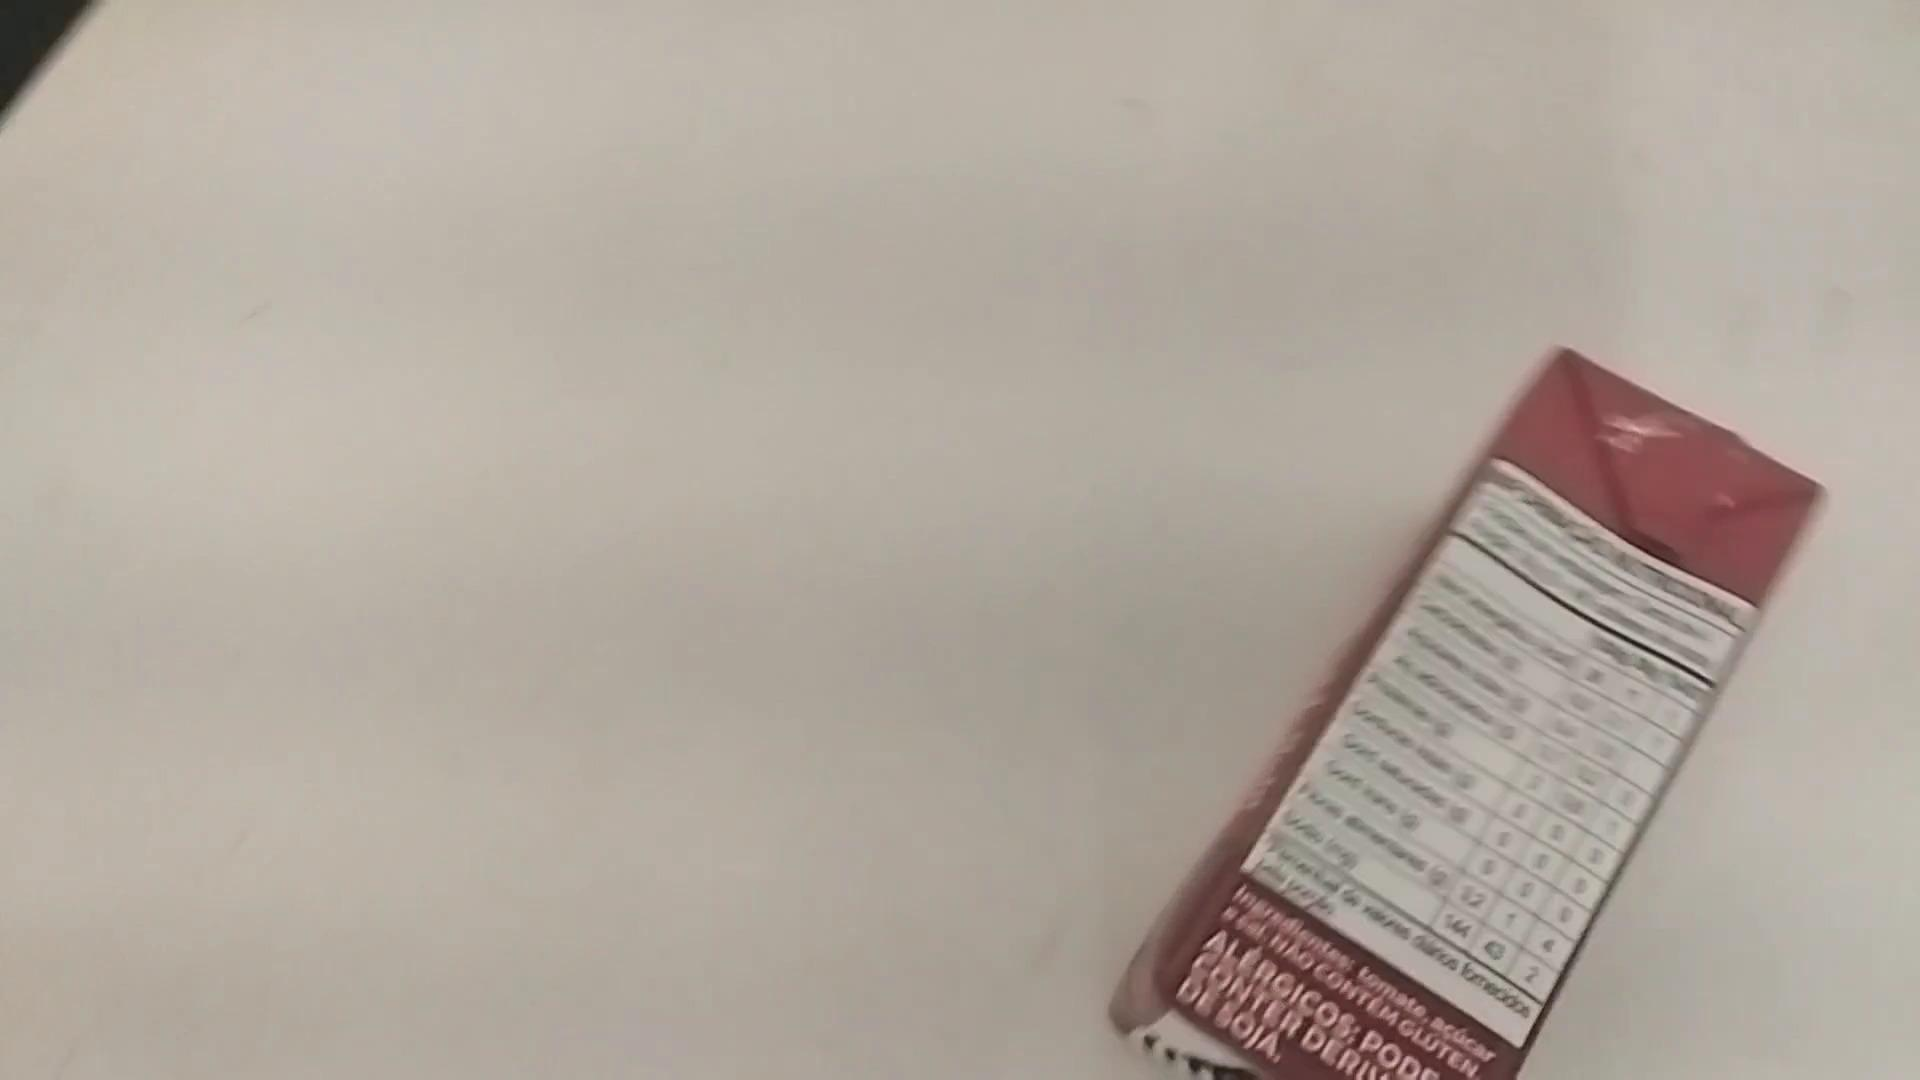tomate: (1059, 323, 1866, 1075)
